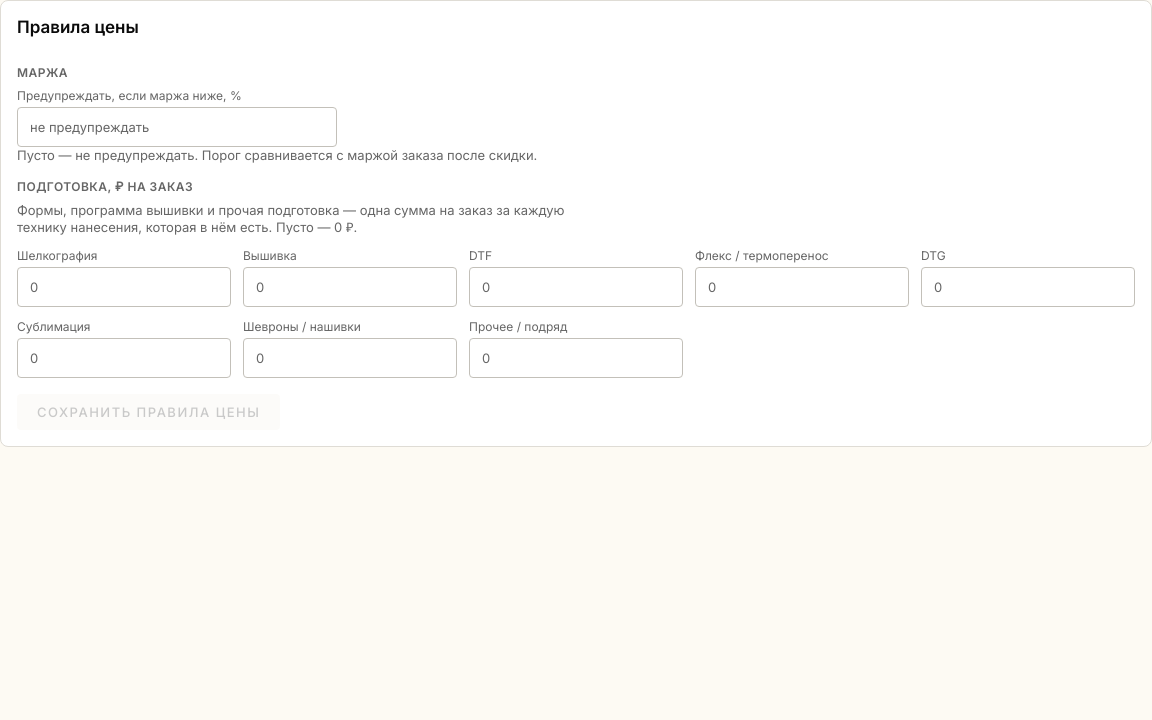
Scenario: «Правила цены» › конфликт: правки на экране, текст конфликта, сохранение закрыто до свежей версии
This screenshot has width=1152, height=720.
Type "20" into the number field labelled "Предупреждать, если маржа ниже, %" at (177, 127), box [17, 107, 337, 147]
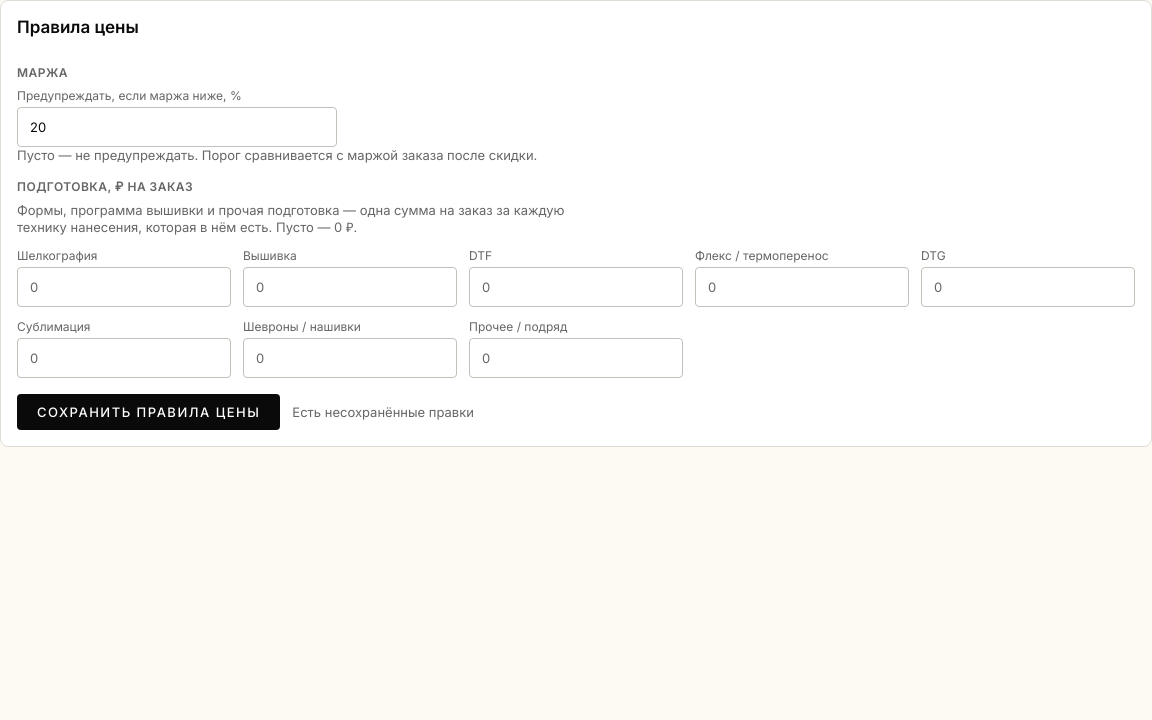
Click the button "Сохранить правила цены" at (149, 412), box [17, 394, 280, 430]
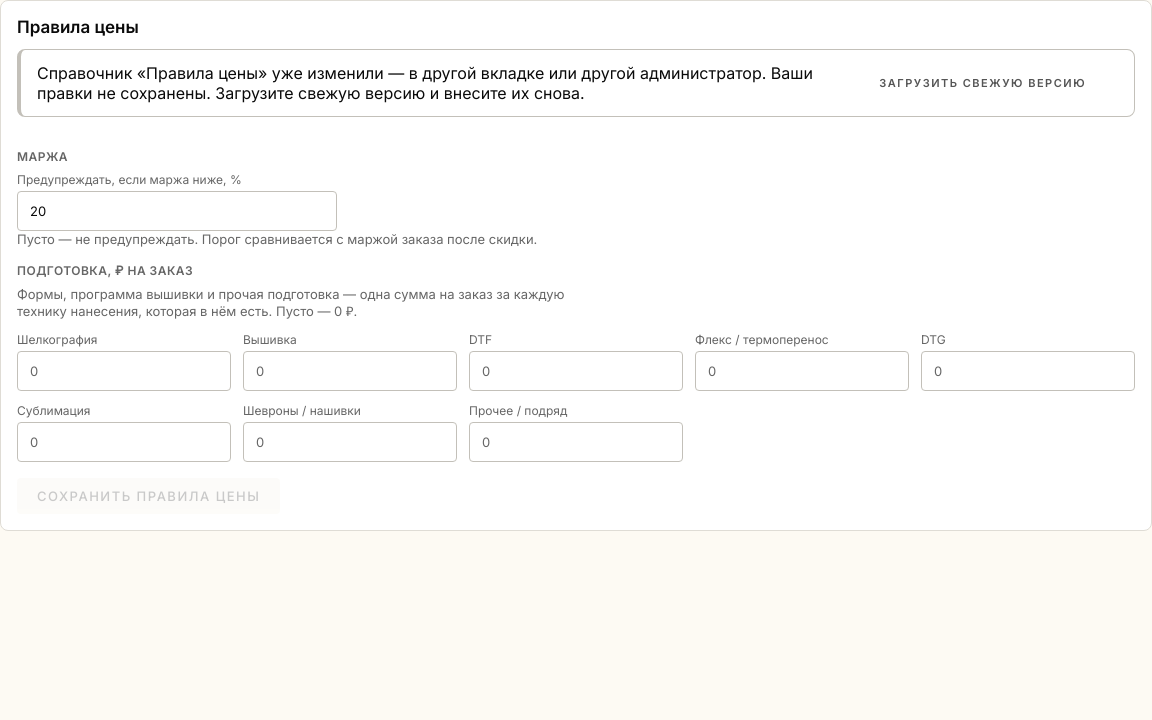
Expected: the message shows "Справочник «Правила цены» уже изменили", [37, 63, 813, 103]
Expected: the button "Сохранить правила цены" is disabled, [17, 478, 280, 514]
